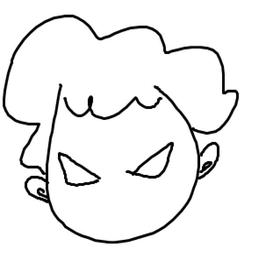ear: (194, 136, 222, 183), (22, 174, 53, 205)
empty_eye: (122, 140, 181, 183), (54, 149, 106, 190)
